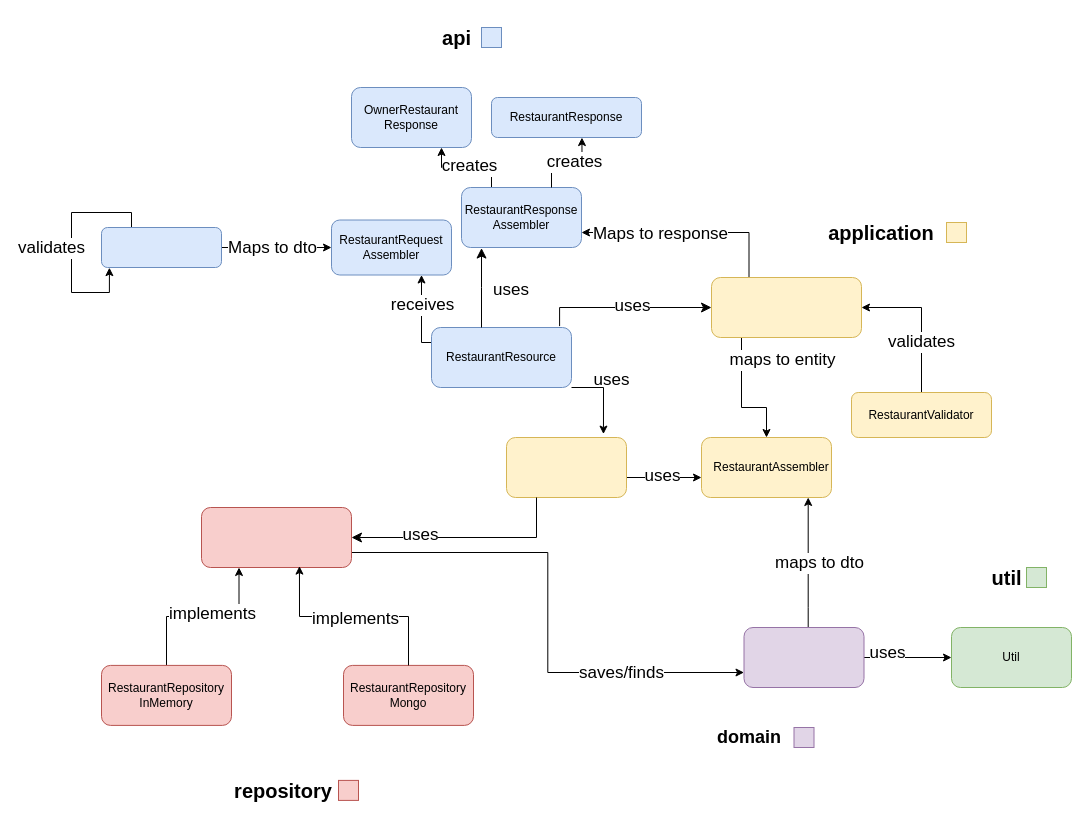
This 1089x822 diagram has some shape labels left out. The shapes that lost their labels are listed below. From the top down, each one's centre as x and y in pixels, then its label:
At (x=161, y=247): "RestaurantRequest".
At (x=786, y=307): "RestaurantDto".
At (x=566, y=467): "R estaurantService".
At (x=276, y=537): "IRestaurantRepository".
At (x=803, y=657): "Restaurant".
